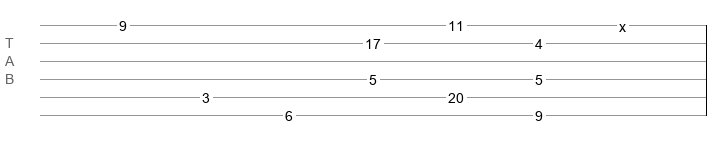11: (448, 18, 464, 28)
17: (365, 36, 381, 46)
20: (448, 90, 464, 100)
3: (202, 90, 210, 100)
4: (535, 36, 543, 46)
5: (369, 72, 377, 82), (535, 72, 543, 82)
6: (285, 108, 293, 118)
9: (119, 18, 127, 28), (535, 108, 543, 118)
x: (619, 19, 626, 27)
